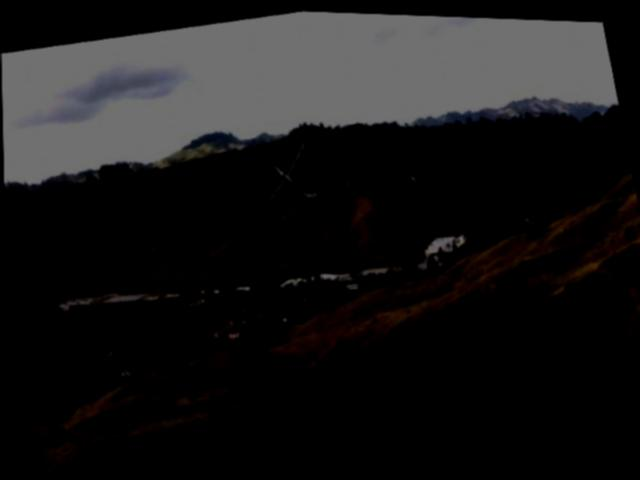iha: (253, 137, 317, 210)
